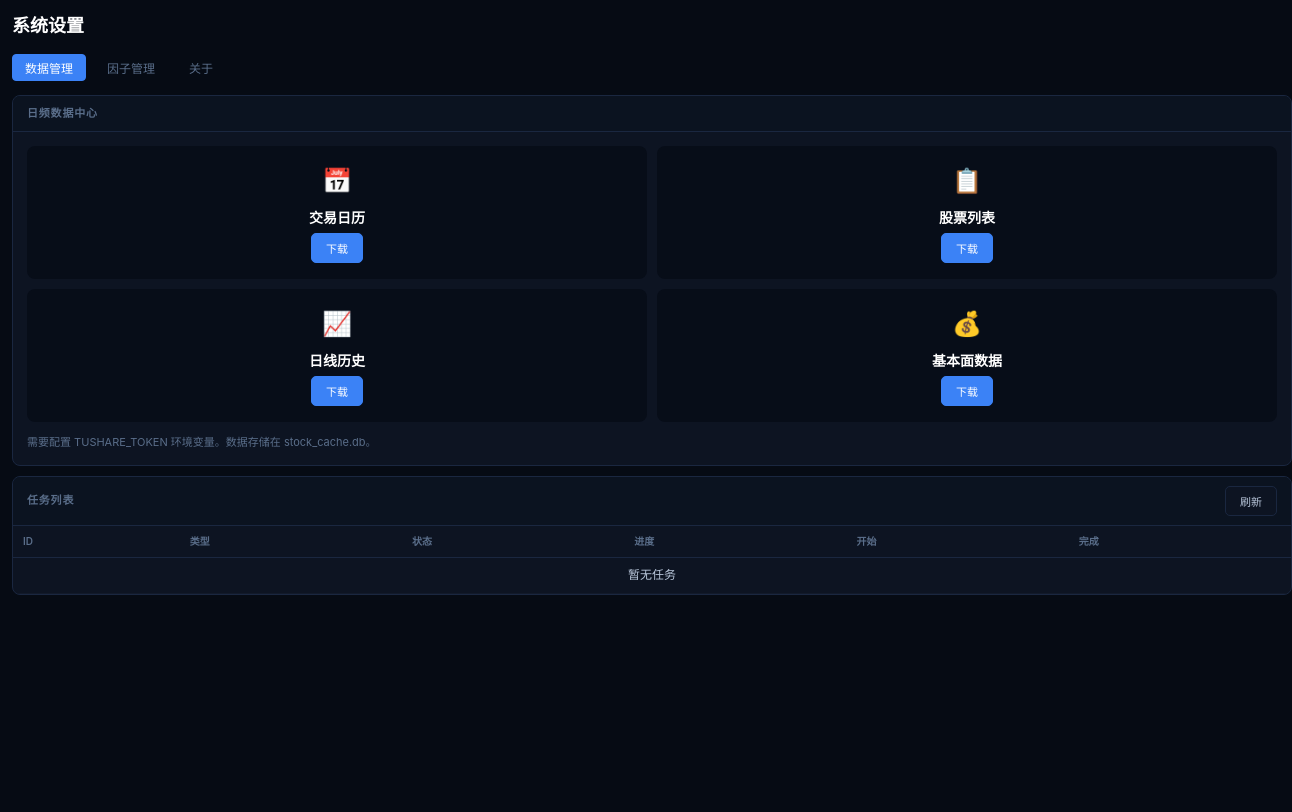
Test: Settings › shows empty factor placeholder
The width and height of the screenshot is (1292, 812).
Step 1. Click the button "因子管理" → click(131, 67), box top-left (94, 54), bottom-right (168, 81)
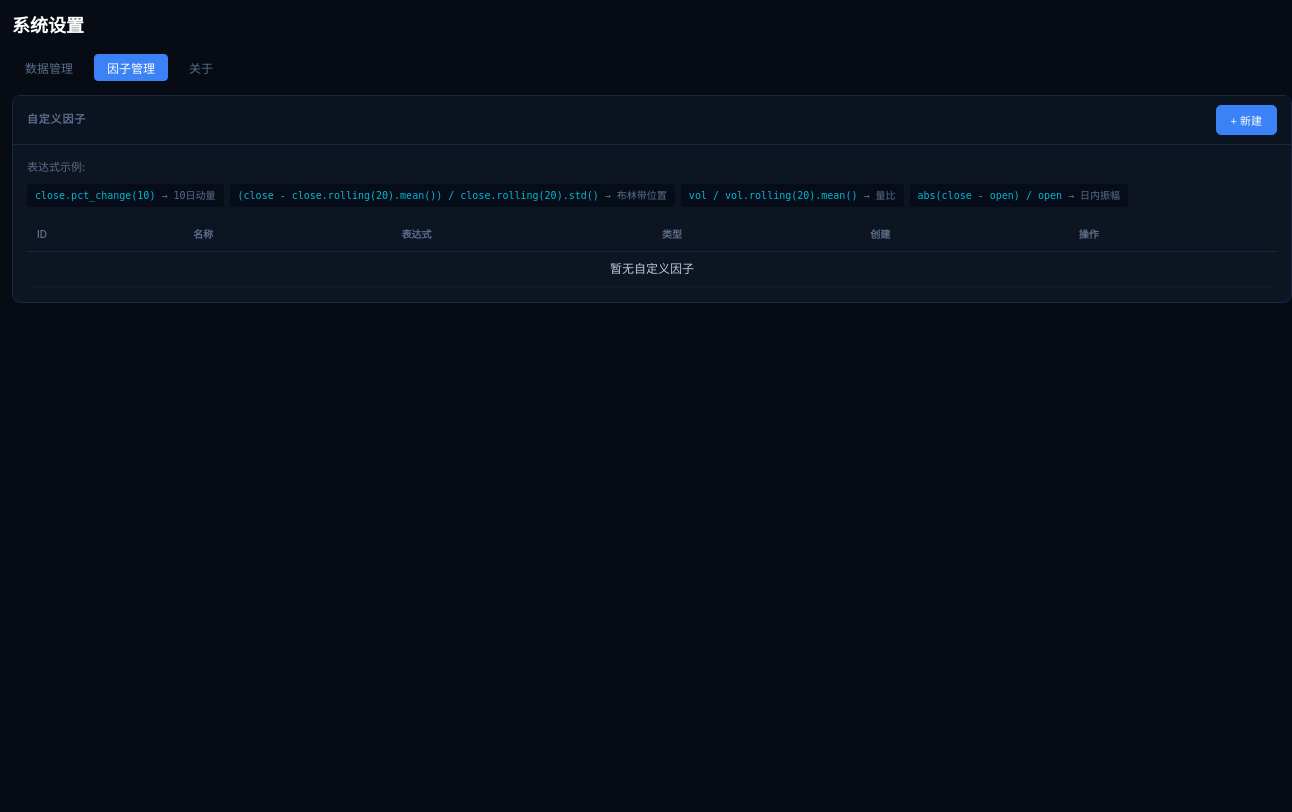
Result: the text "暂无自定义因子" is shown at top-left (27, 251), bottom-right (1277, 287)
